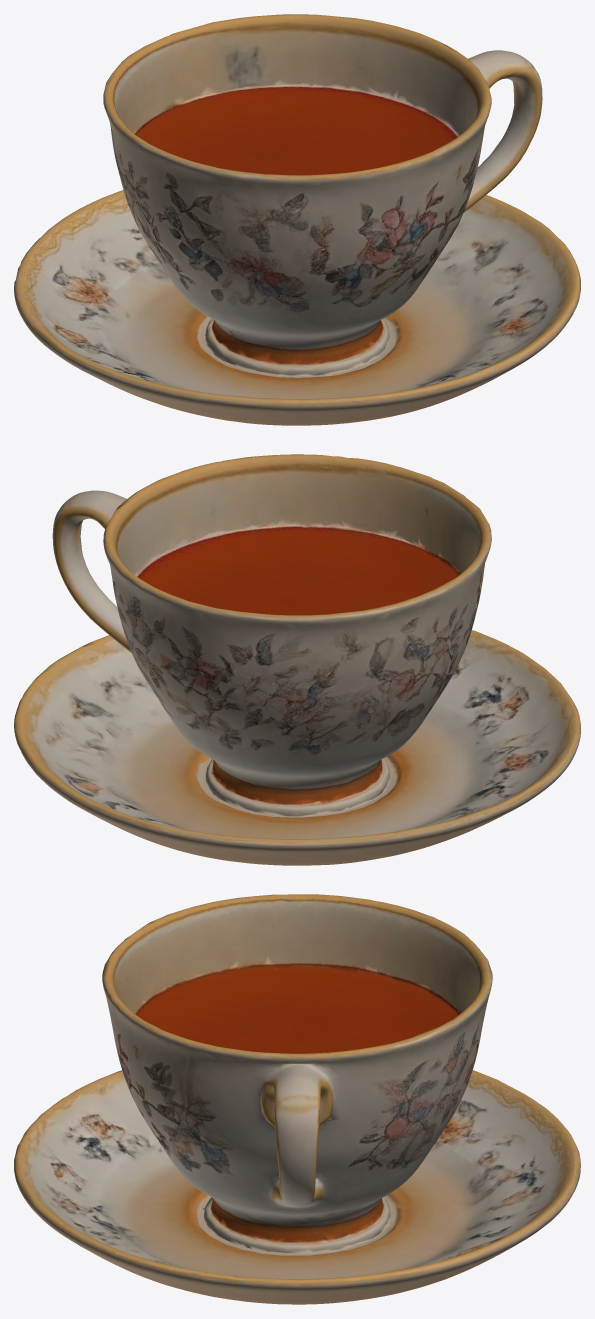
Rendered from teacup.glb.
The picture shows the model from 3 angles, top to bottom: view 1: azimuth 30°, elevation 25°; view 2: azimuth 150°, elevation 25°; view 3: azimuth 270°, elevation 25°; orthographic projection.
Visible parts, largest first — view 1: tripo_node_ee199a35-0683-416b-b054-212043144693; view 2: tripo_node_ee199a35-0683-416b-b054-212043144693; view 3: tripo_node_ee199a35-0683-416b-b054-212043144693.
Boxes of the visible parts, x1,y1,x2,y2 form: tripo_node_ee199a35-0683-416b-b054-212043144693: (14,14,580,425); tripo_node_ee199a35-0683-416b-b054-212043144693: (14,454,580,865); tripo_node_ee199a35-0683-416b-b054-212043144693: (14,894,580,1304).
Bounding box in the file's own units: 0.9996 × 0.4863 × 0.9963.
1 material, 1 textured.
